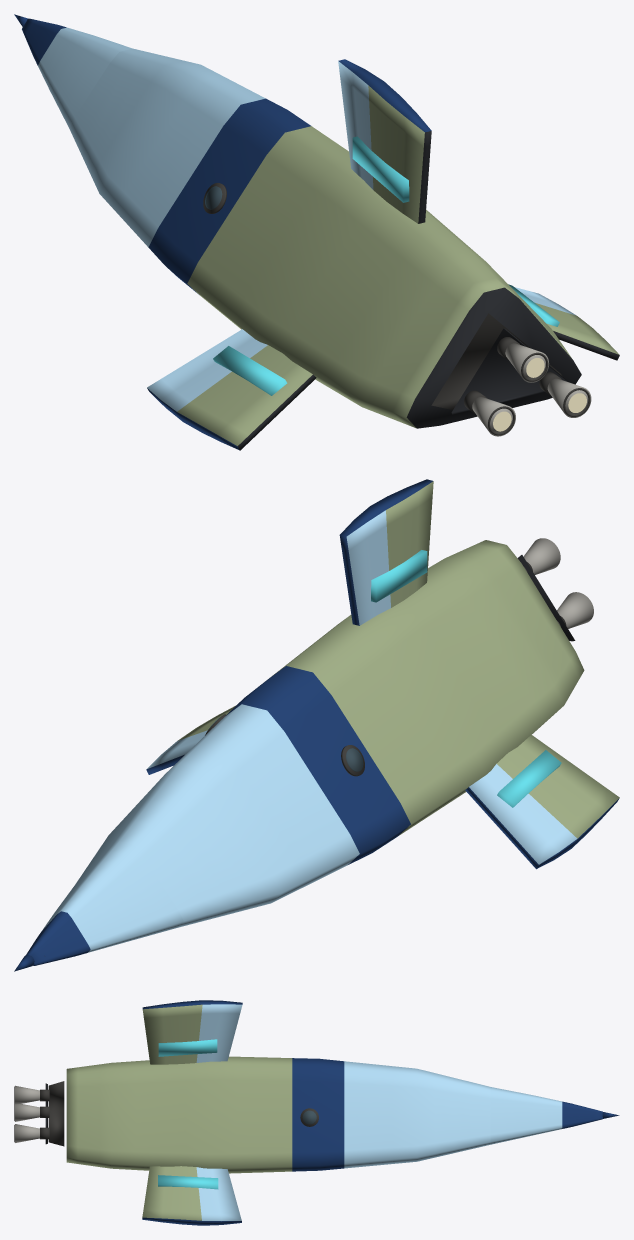
File: Ship_Standard_13.glb
3 views of the same model, one above another, from view 1: azimuth 30°, elevation 25°; view 2: azimuth 150°, elevation 25°; view 3: azimuth 270°, elevation 25° (orthographic). The views are drawn at different scales.
Visible parts, largest first — view 1: Fuselage_RoundedTriangleTriFoldBody, Wing_LowerLeft_TriFoldCornerBladePaintedMesh, Wing_Dorsal_TriFoldCornerBladePaintedMesh, Nose_RoundedTriangleTaperedForwardSection, EngineBlock_AftTriFoldTrimFrame, EngineBlock_AftTriangularIntegratedMountPlate, Wing_LowerRight_TriFoldCornerBladePaintedMesh, WingRootSocket_LowerLeft_IntegratedEmbeddedShoulder, WingRootSocket_Dorsal_IntegratedEmbeddedShoulder, EngineEmitter, EngineBell_LowerLeft_BurnishedNozzle, EngineBell_Dorsal_BurnishedNozzle (+1 smaller); view 2: Fuselage_RoundedTriangleTriFoldBody, Nose_RoundedTriangleTaperedForwardSection, Wing_LowerLeft_TriFoldCornerBladePaintedMesh, Wing_Dorsal_TriFoldCornerBladePaintedMesh, WingRootSocket_LowerLeft_IntegratedEmbeddedShoulder, WingRootSocket_Dorsal_IntegratedEmbeddedShoulder, Wing_LowerRight_TriFoldCornerBladePaintedMesh, EngineBell_Dorsal_BurnishedNozzle, EngineBell_LowerLeft_BurnishedNozzle; view 3: Fuselage_RoundedTriangleTriFoldBody, Wing_Dorsal_TriFoldCornerBladePaintedMesh, Wing_LowerRight_TriFoldCornerBladePaintedMesh, Nose_RoundedTriangleTaperedForwardSection, EngineBlock_AftTriangularIntegratedMountPlate, WingRootSocket_Dorsal_IntegratedEmbeddedShoulder, WingRootSocket_LowerRight_IntegratedEmbeddedShoulder, EngineBell_Dorsal_BurnishedNozzle, EngineBell_LowerRight_BurnishedNozzle, EngineBell_LowerLeft_BurnishedNozzle.
Part boxes in pixels (x1,y1,x2,y2): Fuselage_RoundedTriangleTriFoldBody: (69, 48, 581, 428); Wing_LowerLeft_TriFoldCornerBladePaintedMesh: (147, 329, 316, 450); Wing_Dorsal_TriFoldCornerBladePaintedMesh: (338, 59, 431, 223); Nose_RoundedTriangleTaperedForwardSection: (22, 18, 132, 127); EngineBlock_AftTriFoldTrimFrame: (451, 328, 569, 414); EngineBlock_AftTriangularIntegratedMountPlate: (431, 313, 562, 409); Wing_LowerRight_TriFoldCornerBladePaintedMesh: (514, 287, 619, 360); WingRootSocket_LowerLeft_IntegratedEmbeddedShoulder: (213, 346, 287, 395); WingRootSocket_Dorsal_IntegratedEmbeddedShoulder: (352, 136, 409, 202); EngineEmitter: (493, 358, 586, 431); EngineBell_LowerLeft_BurnishedNozzle: (472, 397, 515, 436); EngineBell_Dorsal_BurnishedNozzle: (505, 343, 549, 382); Fuselage_RoundedTriangleTriFoldBody: (76, 540, 584, 927); Nose_RoundedTriangleTaperedForwardSection: (26, 841, 183, 965); Wing_LowerLeft_TriFoldCornerBladePaintedMesh: (465, 735, 619, 869); Wing_Dorsal_TriFoldCornerBladePaintedMesh: (339, 479, 433, 625); WingRootSocket_LowerLeft_IntegratedEmbeddedShoulder: (497, 750, 561, 807); WingRootSocket_Dorsal_IntegratedEmbeddedShoulder: (371, 550, 427, 602); Wing_LowerRight_TriFoldCornerBladePaintedMesh: (146, 705, 235, 774); EngineBell_Dorsal_BurnishedNozzle: (523, 538, 560, 574); EngineBell_LowerLeft_BurnishedNozzle: (557, 592, 593, 628); Fuselage_RoundedTriangleTriFoldBody: (66, 1056, 490, 1173); Wing_Dorsal_TriFoldCornerBladePaintedMesh: (142, 1000, 242, 1064); Wing_LowerRight_TriFoldCornerBladePaintedMesh: (142, 1166, 241, 1225); Nose_RoundedTriangleTaperedForwardSection: (490, 1087, 602, 1144); EngineBlock_AftTriangularIntegratedMountPlate: (48, 1081, 64, 1146); WingRootSocket_Dorsal_IntegratedEmbeddedShoulder: (158, 1039, 217, 1056); WingRootSocket_LowerRight_IntegratedEmbeddedShoulder: (158, 1175, 218, 1189); EngineBell_Dorsal_BurnishedNozzle: (15, 1085, 39, 1104); EngineBell_LowerRight_BurnishedNozzle: (15, 1124, 39, 1142); EngineBell_LowerLeft_BurnishedNozzle: (15, 1104, 39, 1121).
Bounding box in the file's own units: 3.73 × 2.61 × 8.51.
